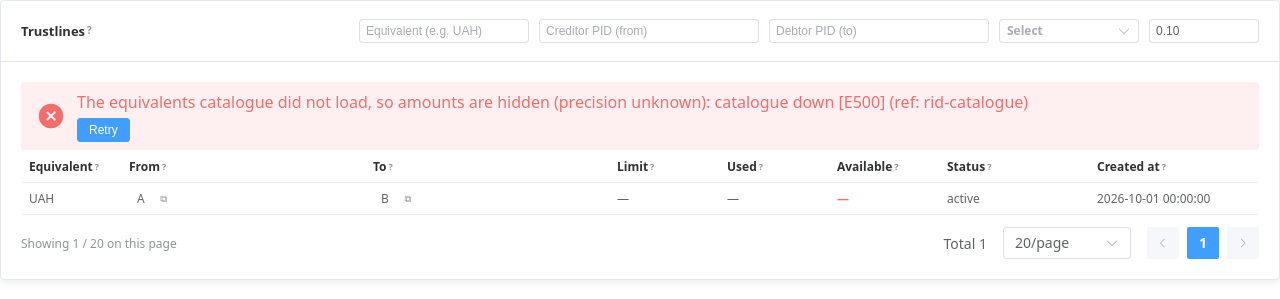
Test: Trustlines: the catalogue of precisions fails (033 B, item 3) › keeps the error when the retry fails too, with the ref of the latest request
Click the button with test id "equivalent-catalogue-retry".
click(103, 130)  # box [77, 118, 130, 142]
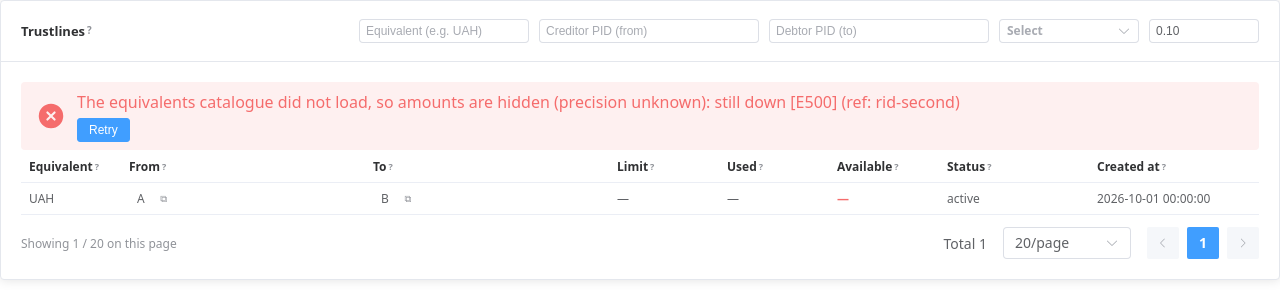
Result: the element with test id "equivalent-catalogue-error" shows "(ref: rid-second)" at [77, 91, 960, 113]
Result: the text with test id "equivalent-catalogue-error" no longer shows "rid-catalogue"
